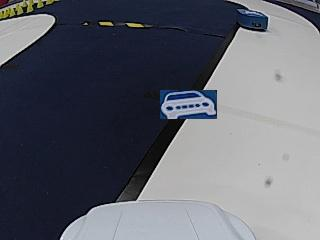prop: (238, 9, 267, 31)
